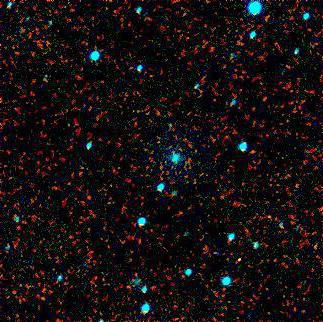star: (155, 111, 185, 141)
